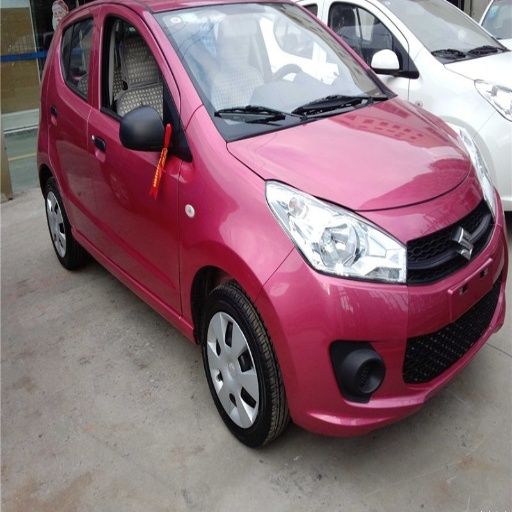front_bumper: (257, 203, 509, 435), (372, 188, 464, 225)
front_right_door: (89, 2, 181, 312)
front_right_light: (266, 183, 406, 283)
hood: (226, 97, 484, 241)
